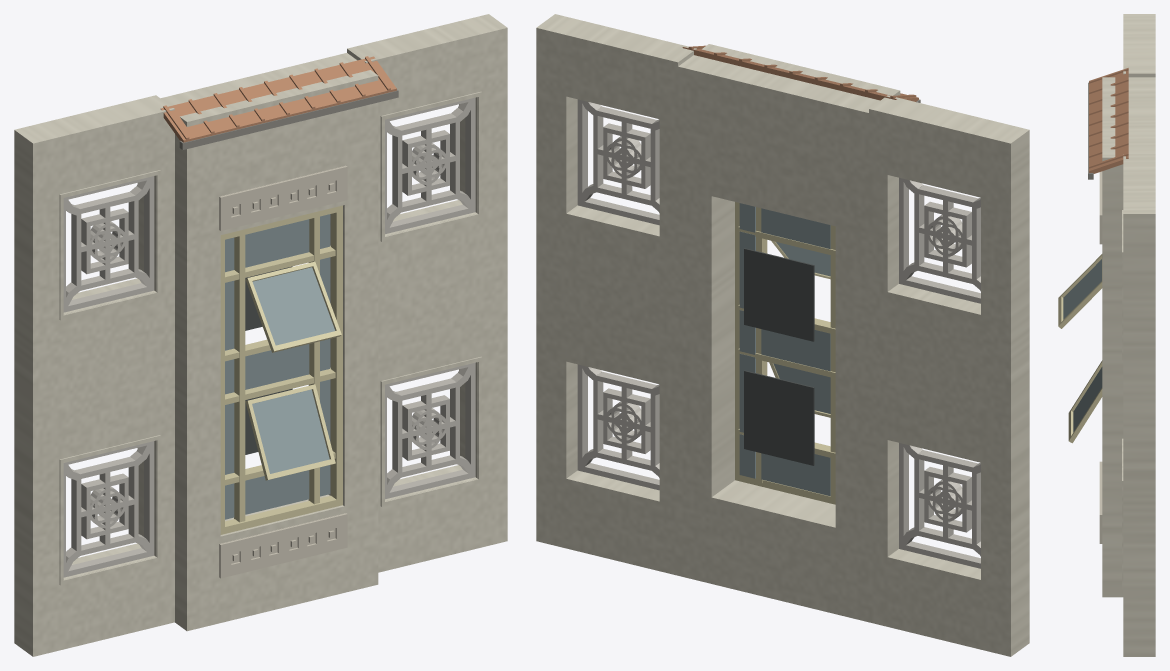
File: 347-high-window-near.glb
The picture shows the model from 3 angles, left to right: view 1: azimuth 30°, elevation 25°; view 2: azimuth 150°, elevation 25°; view 3: azimuth 270°, elevation 25°; orthographic projection. The views are drawn at different scales.
Parts seen in each view (by area): view 1: 同济新村347号高窗与方形花格; view 2: 同济新村347号高窗与方形花格; view 3: 同济新村347号高窗与方形花格.
Boxes of the visible parts, x1,y1,x2,y2 form: 同济新村347号高窗与方形花格: [14, 14, 507, 656]; 同济新村347号高窗与方形花格: [536, 14, 1029, 656]; 同济新村347号高窗与方形花格: [1058, 14, 1155, 656].
Size of the model in its own units: 3.56 by 3.7 by 0.7338.
8 materials, 1 textured.
